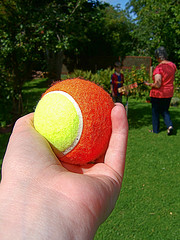tennis ball: (32, 78, 118, 164)
